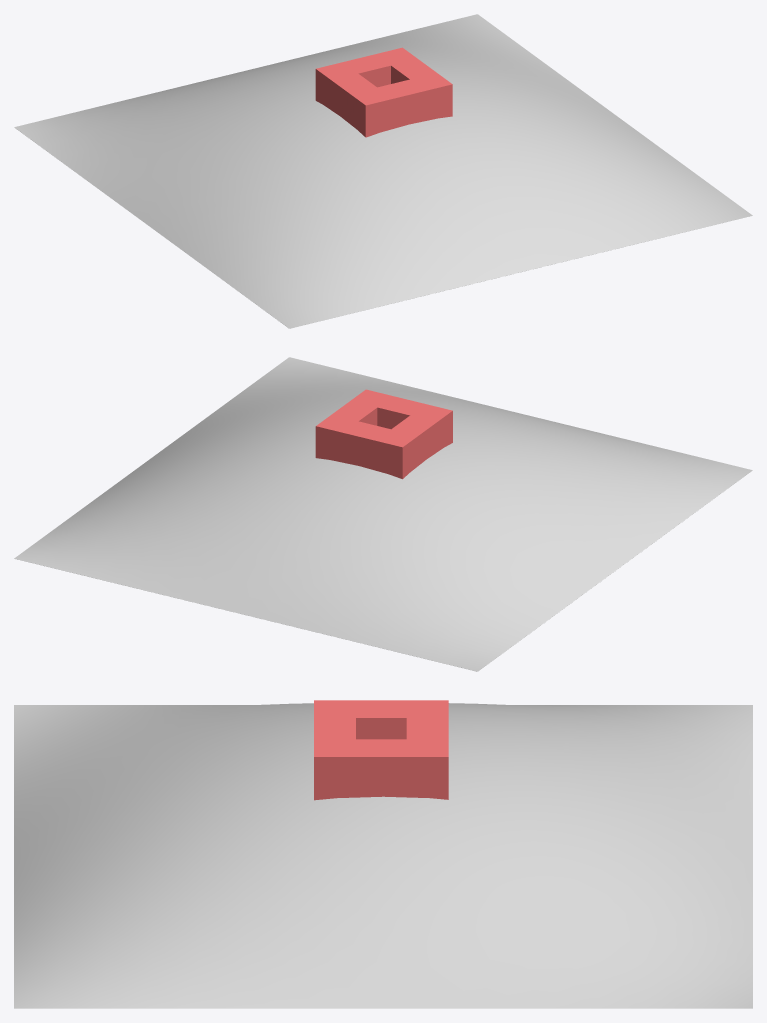
3 renders of one model, top to bottom at view 1: azimuth 30°, elevation 25°; view 2: azimuth 150°, elevation 25°; view 3: azimuth 270°, elevation 25°, orthographic. The views are drawn at different scales.
Bounding box in the file's own units: 51.41 × 10.13 × 52.86.
